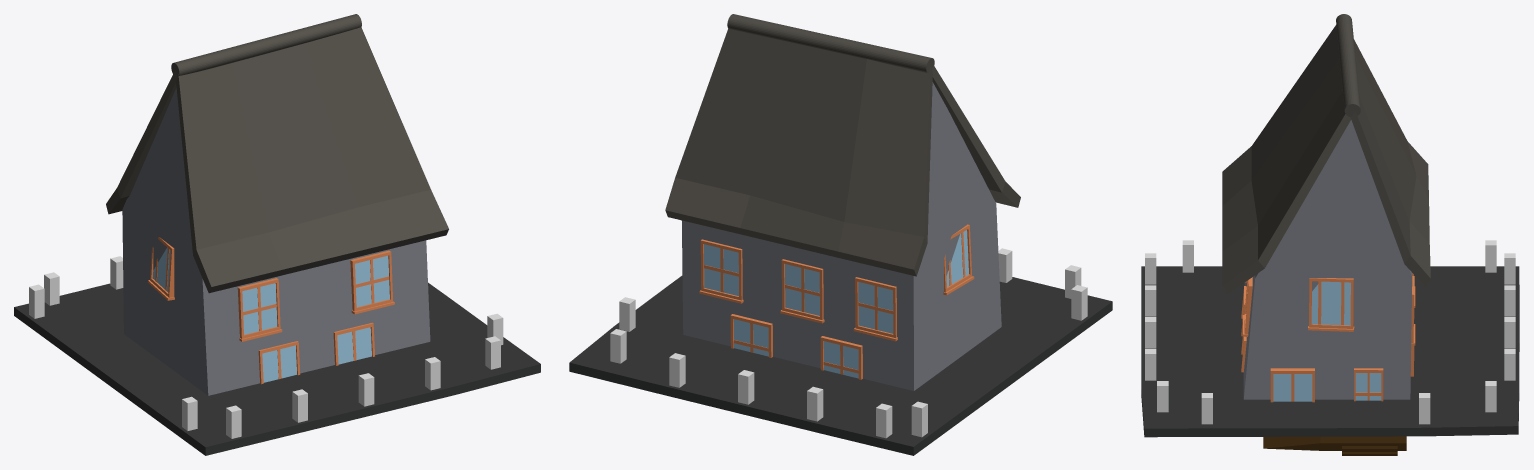
Rendered from Gothic House1.fbx.
3 views of the same model, side by side, from view 1: azimuth 30°, elevation 25°; view 2: azimuth 150°, elevation 25°; view 3: azimuth 270°, elevation 25° (orthographic). The views are drawn at different scales.
Visible parts, largest first — view 1: Cube.008, Path, Cube.013; view 2: Cube.008, Path, Cube.016, Cube.001, Cube.004, Cube.005, Cube.002, Cube.006, Cube.007, Cube.003; view 3: Cube.008, Path, Cube.001, Cube.016, Cube.005, Cube.011, Cube.012, Cube.013, Cube.014, Cube.015, Cube.002, Cube.003 (+4 smaller).
Boxes of the visible parts, x1=… form: Cube.008: x1=106, y1=14, x2=448, y2=395; Path: x1=14, y1=282, x2=540, y2=455; Cube.013: x1=358, y1=373, x2=374, y2=406; Cube.008: x1=665, y1=14, x2=1020, y2=390; Path: x1=569, y1=275, x2=1112, y2=455; Cube.016: x1=1071, y1=285, x2=1087, y2=320; Cube.001: x1=911, y1=401, x2=927, y2=437; Cube.004: x1=807, y1=386, x2=823, y2=421; Cube.005: x1=610, y1=329, x2=626, y2=363; Cube.002: x1=669, y1=353, x2=685, y2=387; Cube.006: x1=876, y1=403, x2=892, y2=438; Cube.007: x1=619, y1=297, x2=635, y2=331; Cube.003: x1=738, y1=370, x2=754, y2=404; Cube.008: x1=1222, y1=14, x2=1430, y2=455; Path: x1=1141, y1=266, x2=1519, y2=437; Cube.001: x1=1485, y1=240, x2=1496, y2=272; Cube.016: x1=1182, y1=240, x2=1193, y2=272; Cube.005: x1=1485, y1=381, x2=1496, y2=412; Cube.011: x1=1157, y1=381, x2=1168, y2=412; Cube.012: x1=1145, y1=349, x2=1156, y2=380; Cube.013: x1=1145, y1=317, x2=1156, y2=348; Cube.014: x1=1145, y1=285, x2=1156, y2=316; Cube.015: x1=1145, y1=253, x2=1156, y2=284; Cube.002: x1=1504, y1=349, x2=1515, y2=380; Cube.003: x1=1504, y1=317, x2=1515, y2=348.
Size of the model in its own units: 1016 by 943 by 1001.
